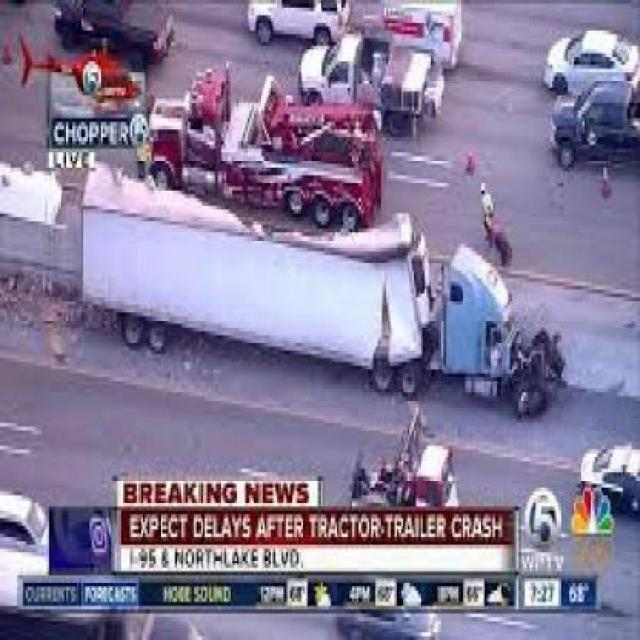accident: (59, 123, 578, 434)
